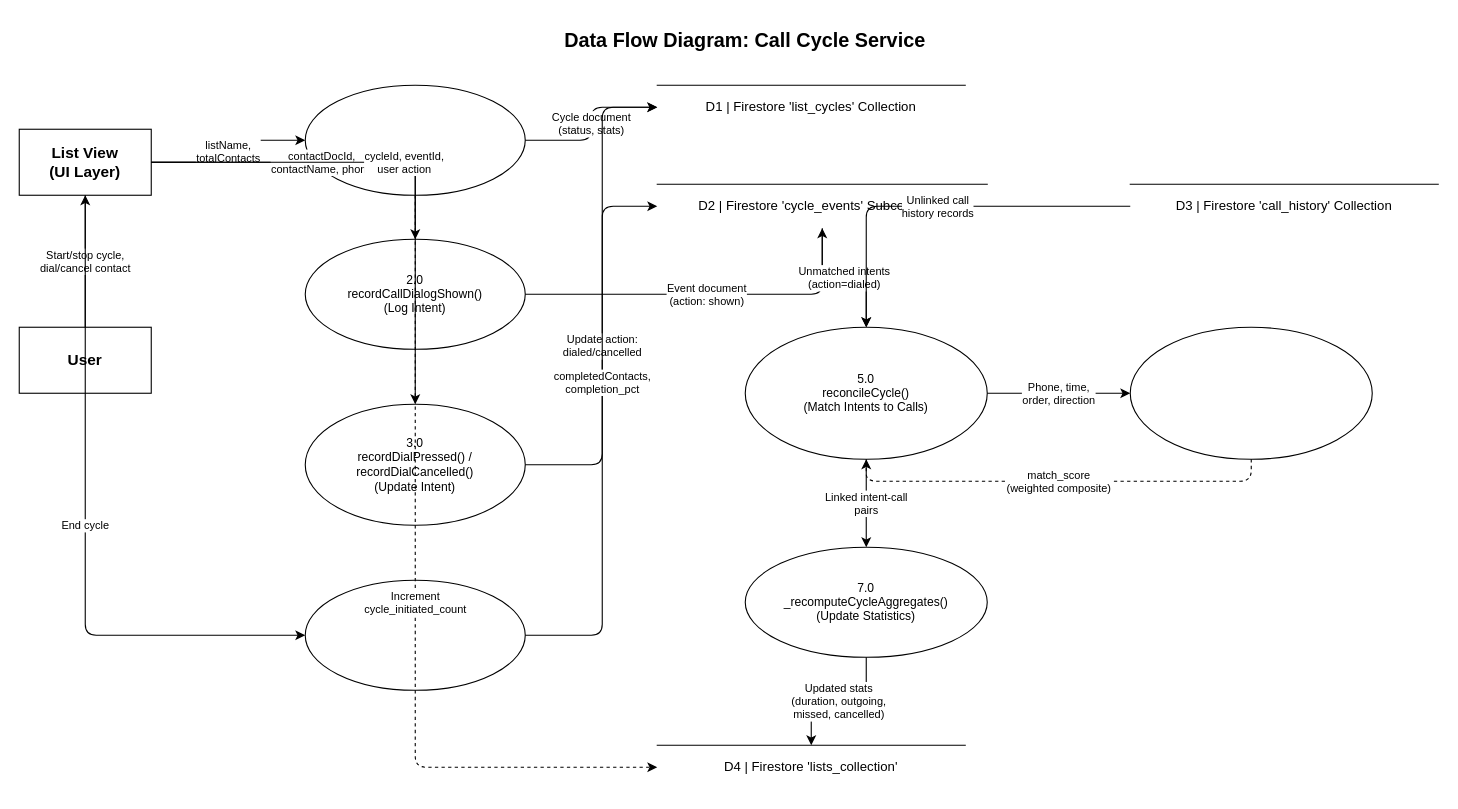
The diagram is 1458 pixels wide and 809 high, and some of its shapes have lost their labels. Each missing label, with the centre of its shape:
"1.0 startCycle() (Initiate List Cycle)" goes at pixel 414 139.
"4.0 endCycle() (Complete Cycle)" goes at pixel 414 634.
"6.0 Match Scoring (_timeScore, _orderScore, _directionScore)" goes at pixel 1250 392.
